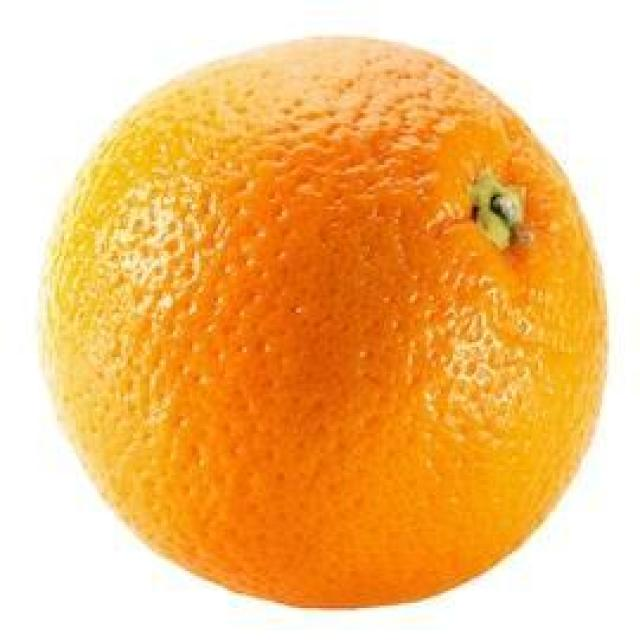orange: (38, 32, 614, 614)
